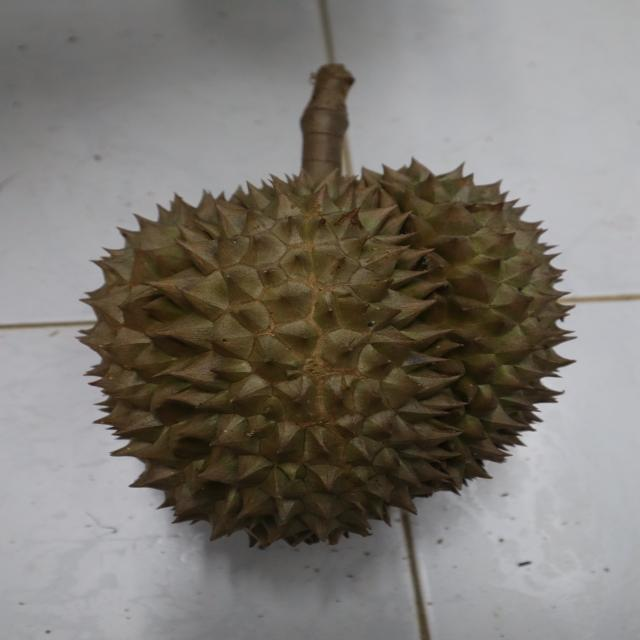mature: (74, 154, 576, 555)
